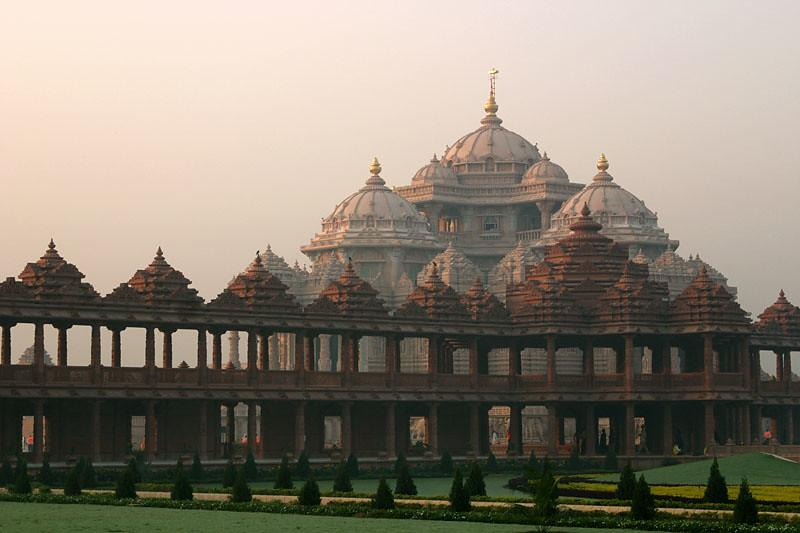temple: (2, 66, 799, 477)
